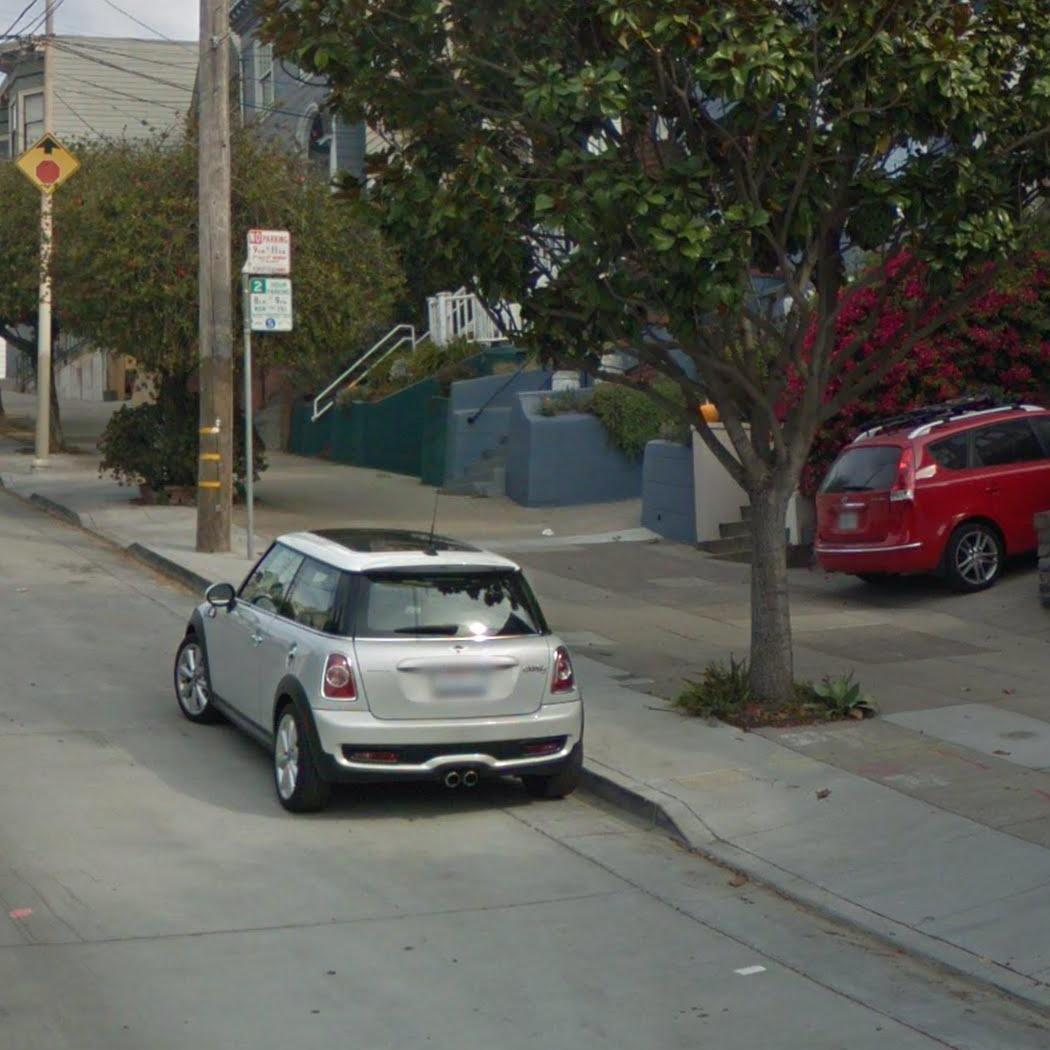2 Hour Parking: (246, 277, 296, 334)
No Parking: (243, 226, 295, 274)
